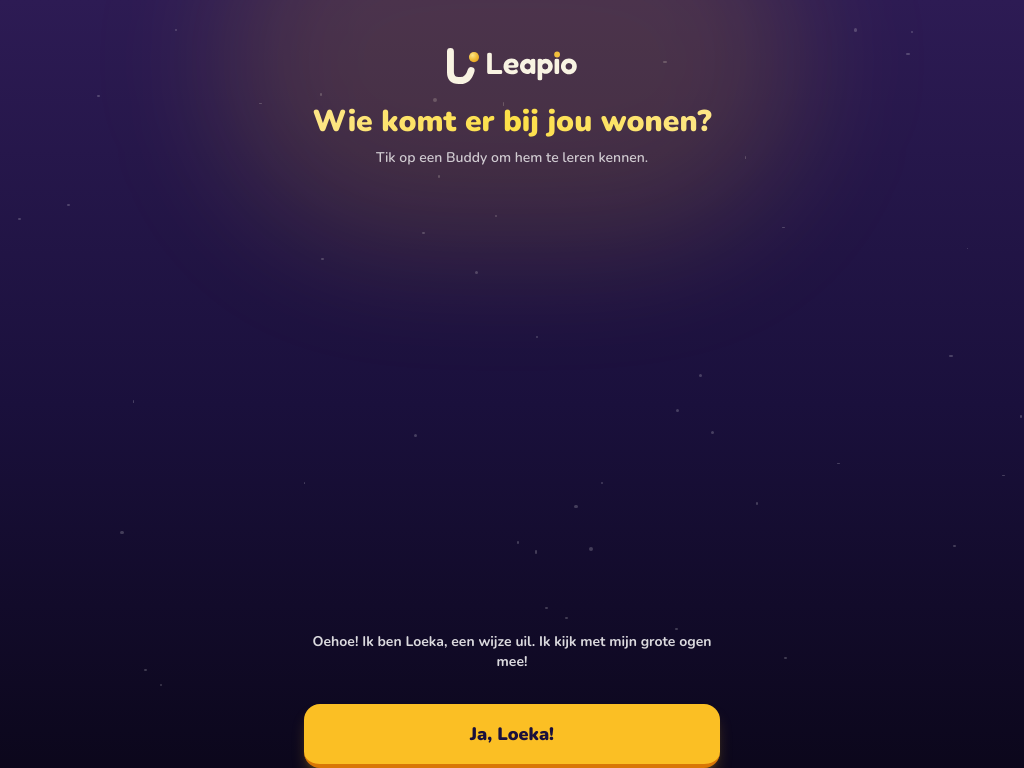
ChooseBuddy — first time › confirming saves the choice and goes to the Buddy
Earlier steps of the test are not shown.
Click the button "Ja, Loeka!": (512, 736) [304,704,720,767]
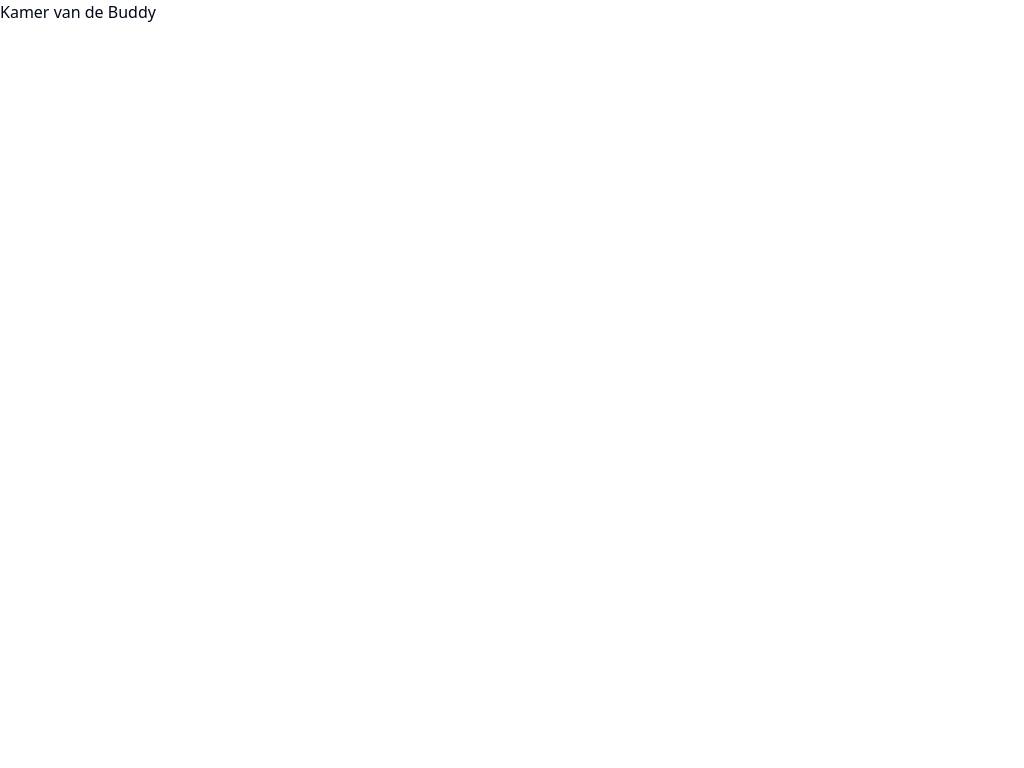
Expected: the text "Kamer van de Buddy" is shown, [0,1,156,23]
